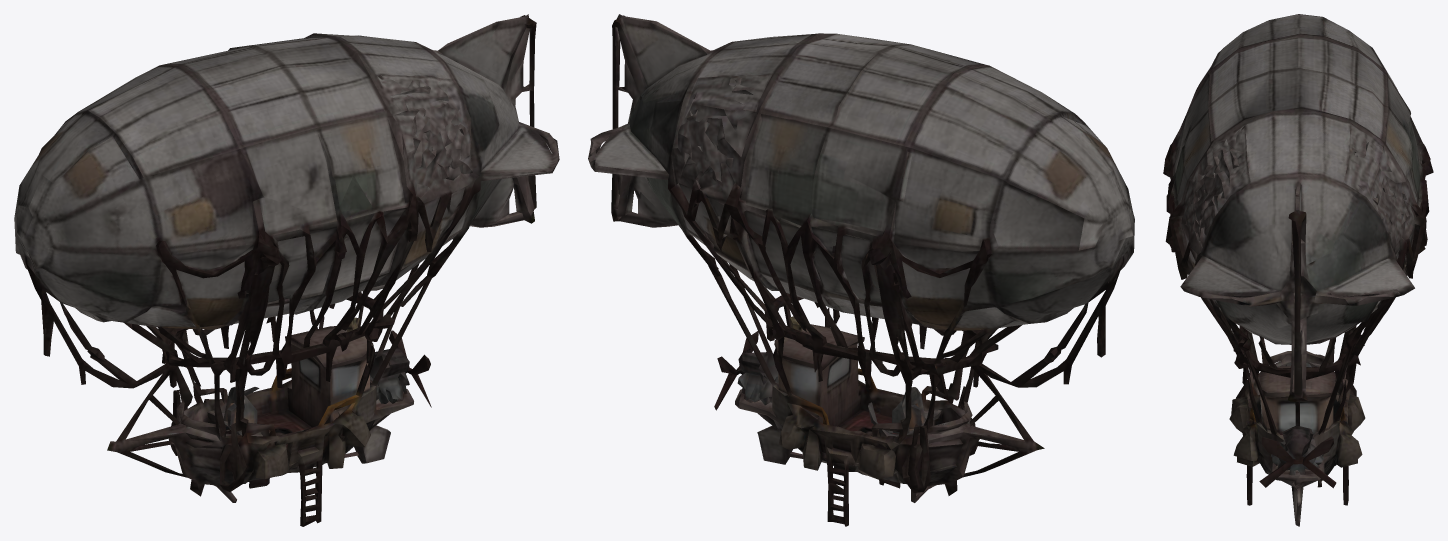
File: lm_blimp.glb
The picture shows the model from 3 angles, left to right: view 1: azimuth 30°, elevation 25°; view 2: azimuth 150°, elevation 25°; view 3: azimuth 270°, elevation 25°; orthographic projection. The views are drawn at different scales.
Parts seen in each view (by area): view 1: world; view 2: world; view 3: world.
Part boxes in pixels (x1,y1,x2,y2): world: (14,14,559,526); world: (588,14,1134,526); world: (1163,14,1433,526).
Bounding box in the file's own units: 25.98 × 22 × 12.62.
Materials: 1 (1 with a texture image).
